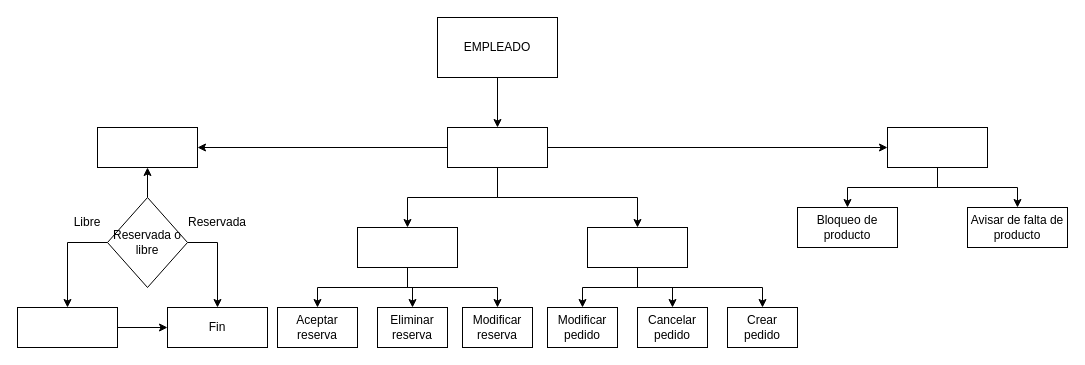
The diagram is 1085 pixels wide and 365 high, and some of its shapes have lost their labels. The shapes that lost their labels are listed below. From the top down, each one's centre as x and y in pixels, then its label:
[147,147]: Gestión de mesas
[497,147]: Identificarse
[937,147]: Gestión de stock
[407,247]: Gestión de reservas
[637,247]: Gestión de pedidos
[67,327]: Disponible para reservar
